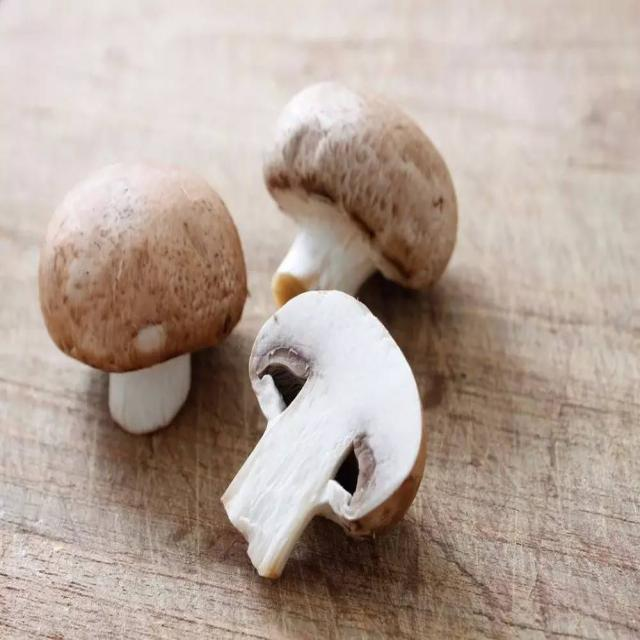Agaricus bisporus: (220, 289, 428, 582), (41, 161, 244, 431), (271, 80, 459, 309)
